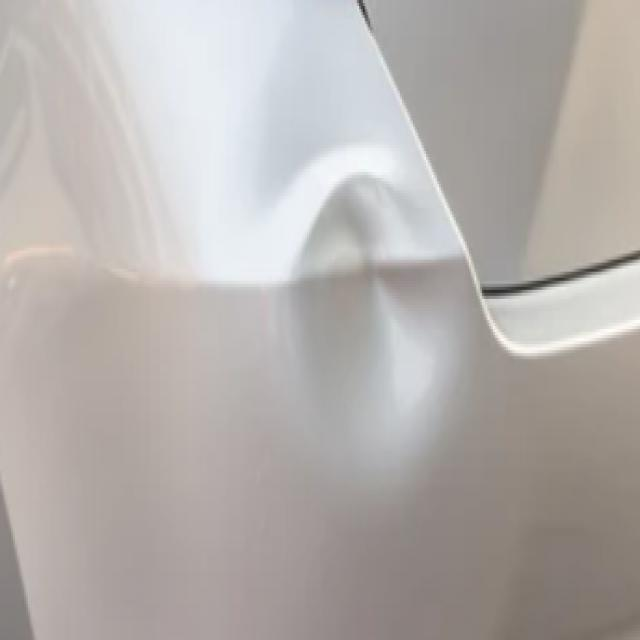dents: (272, 147, 454, 443)
